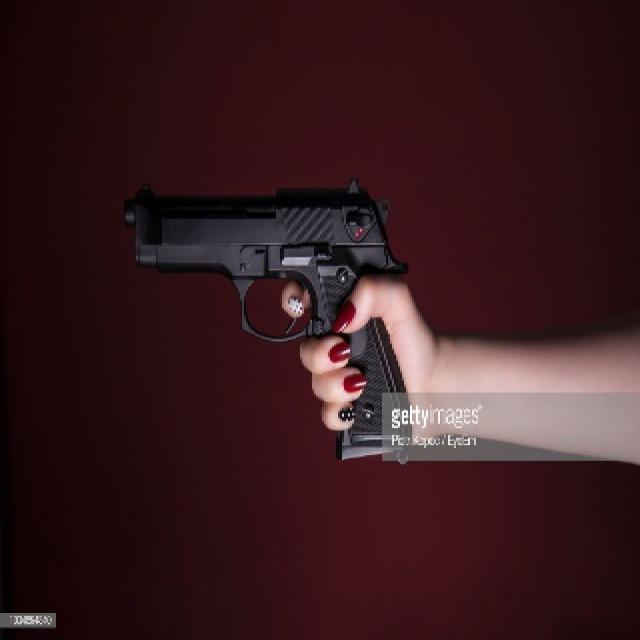handgun: (121, 177, 441, 466)
